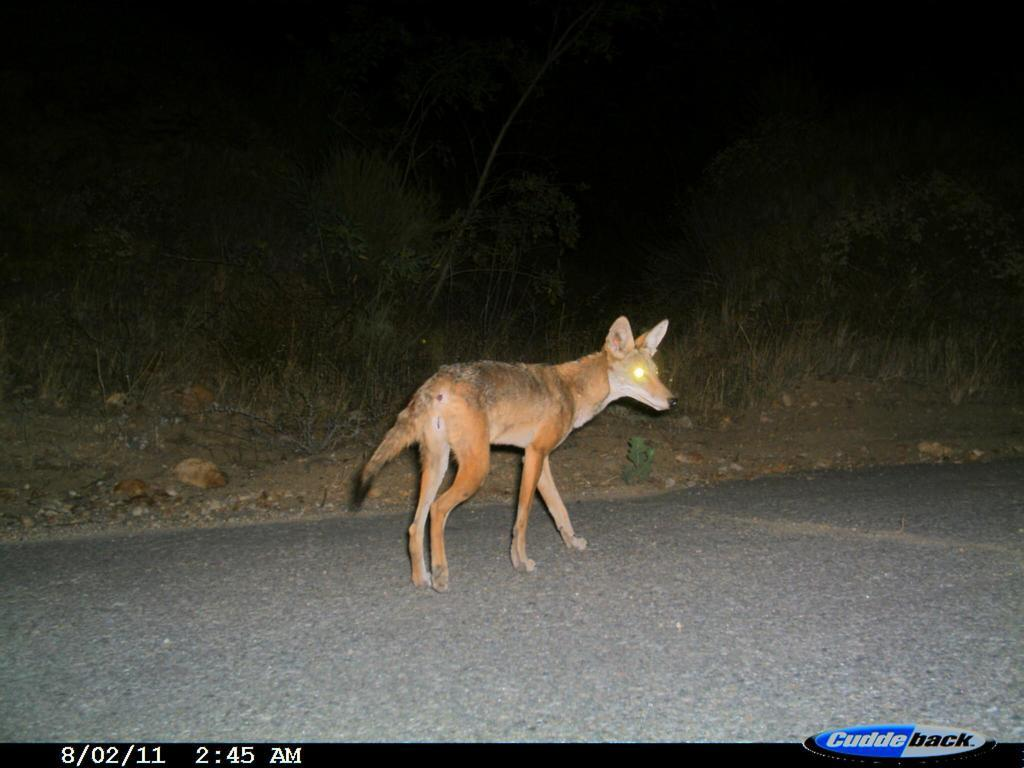coyote: (344, 313, 679, 600)
